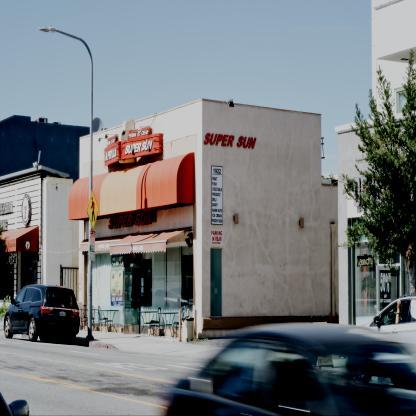light_pole: (38, 23, 94, 338)
